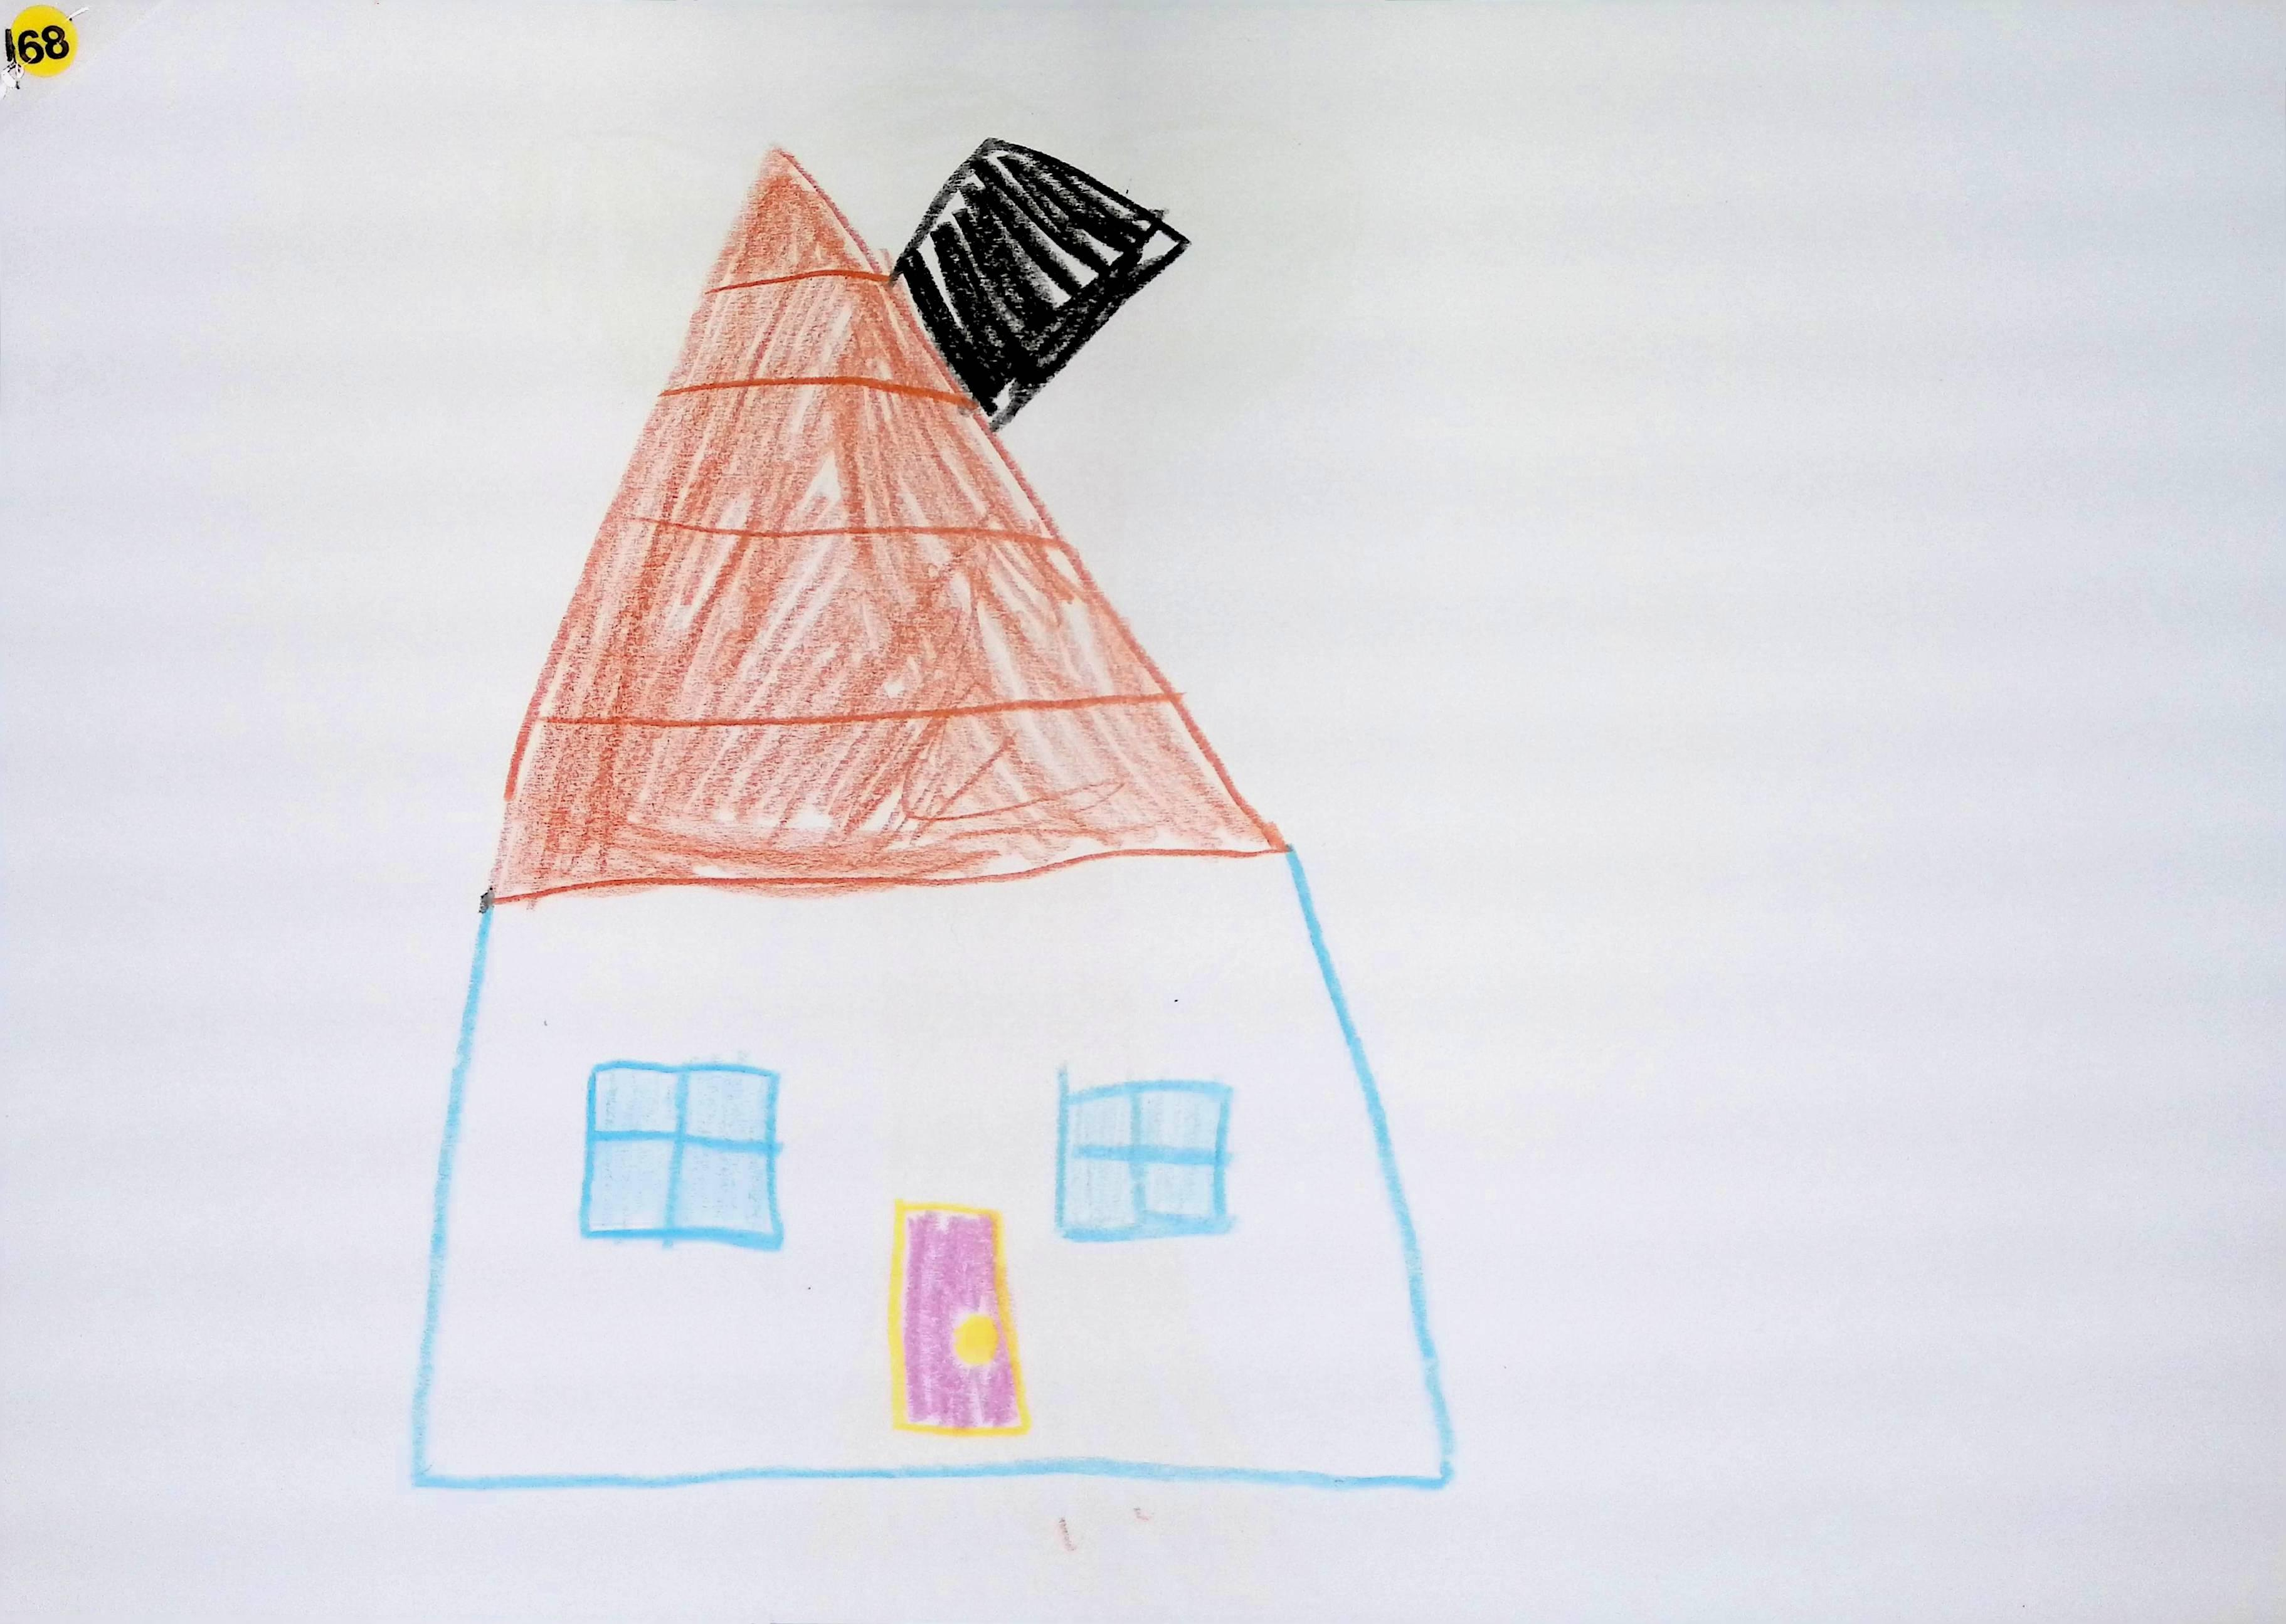chimney: (894, 135, 1188, 427)
door: (891, 1202, 1030, 1436), (926, 524, 945, 533)
house: (409, 137, 1455, 1492), (411, 137, 1453, 1490)
roof: (485, 148, 1284, 902)
wall: (411, 852, 1450, 1489)
window: (578, 1062, 782, 1250), (1056, 1072, 1233, 1243)
